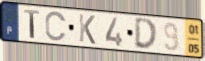4: (103, 16, 124, 48)
9: (162, 21, 181, 53)
C: (45, 10, 68, 43)
D: (133, 17, 159, 52)
K: (78, 12, 97, 46)
T: (23, 8, 41, 40)
